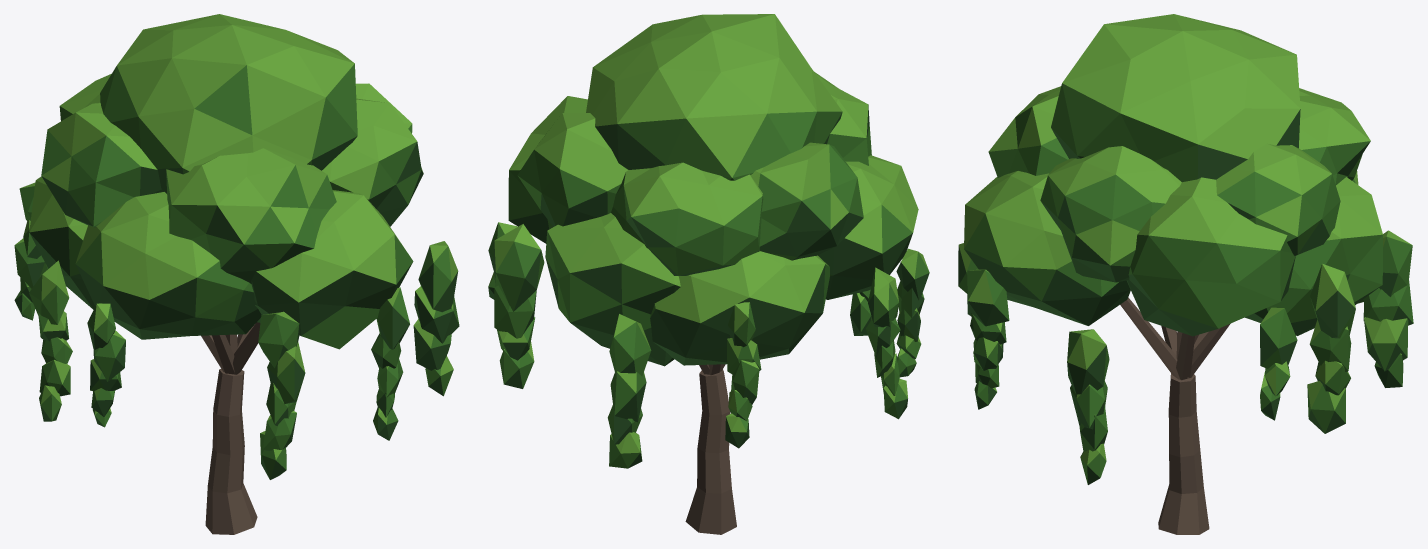
Rendered from T10_VineDrapedTree.glb.
3 renders of one model, left to right at view 1: azimuth 30°, elevation 25°; view 2: azimuth 150°, elevation 25°; view 3: azimuth 270°, elevation 25°, orthographic.
Parts seen in each view (by area): view 1: T10_VineDrapedTree; view 2: T10_VineDrapedTree; view 3: T10_VineDrapedTree.
Part boxes in pixels (x1,y1,x2,y2): T10_VineDrapedTree: [14, 14, 459, 534]; T10_VineDrapedTree: [488, 14, 929, 534]; T10_VineDrapedTree: [958, 14, 1413, 534].
Bounding box in the file's own units: 6.51 × 8.3 × 6.85.
